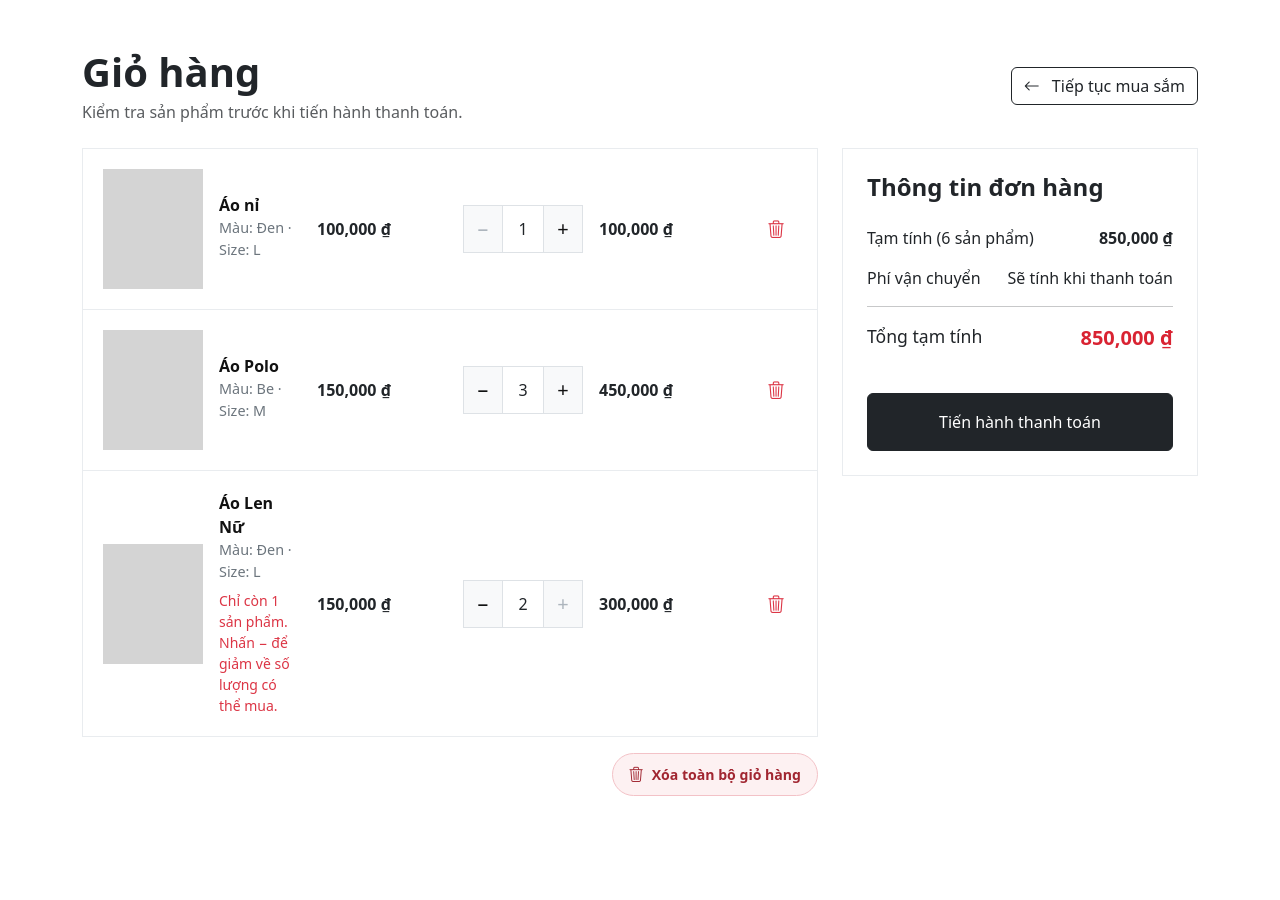
Test case: CartComponent › preserves the cart and header count if the delete fails
What coordinates should you click on to do the following:
click the 1st button with class "remove-button"
I would click on:
 (776, 229)
Its box is [755,215,797,243].
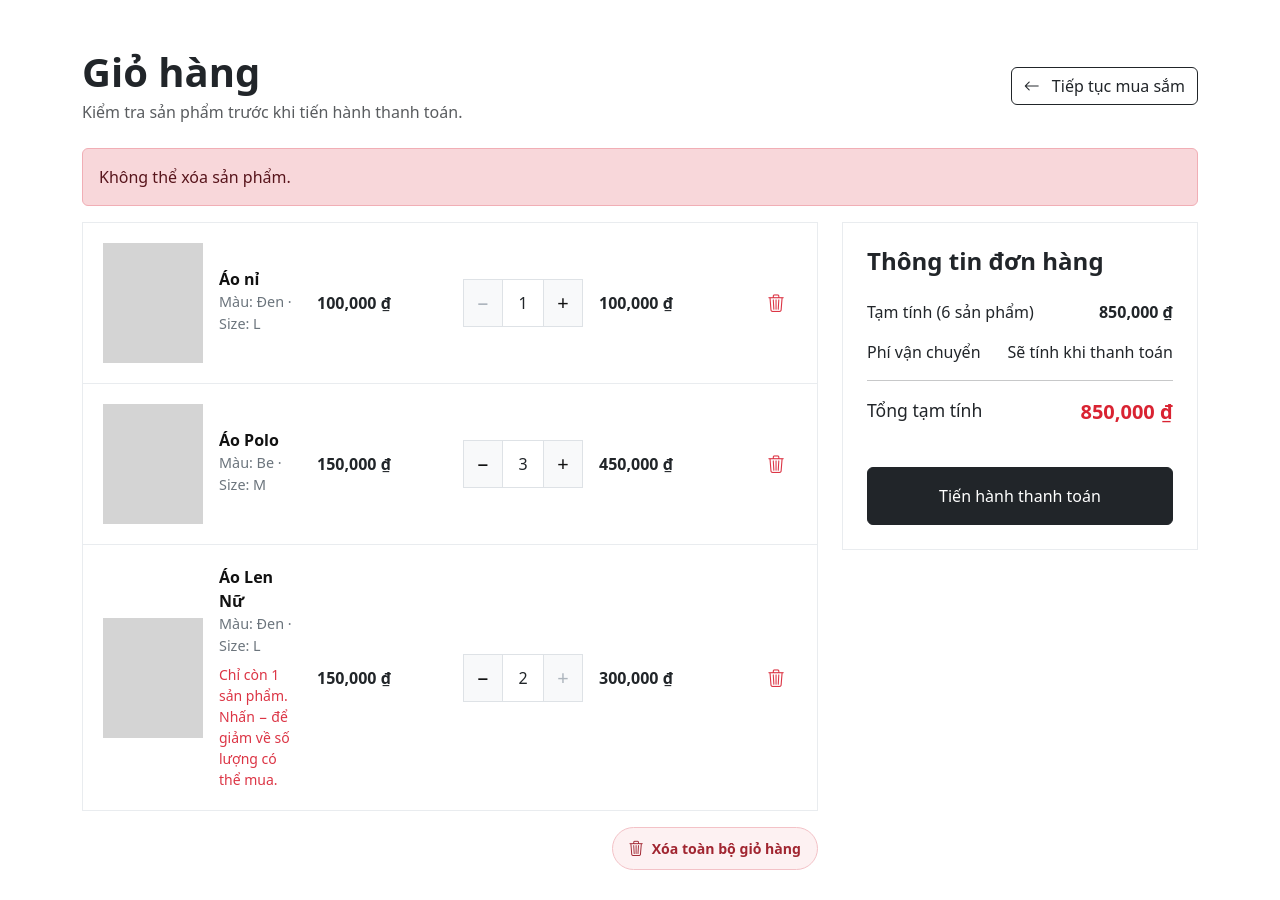
Expected: the number of elements with class "cart-item" is 3, [83,223,817,384]; [83,384,817,545]; [83,545,817,810]
Expected: the text "Không thể xóa sản phẩm." is shown, [82,148,1198,206]
